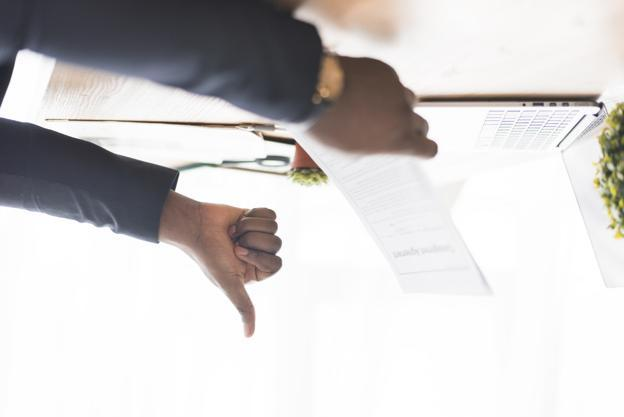thumbsdown: (223, 207, 283, 339)
